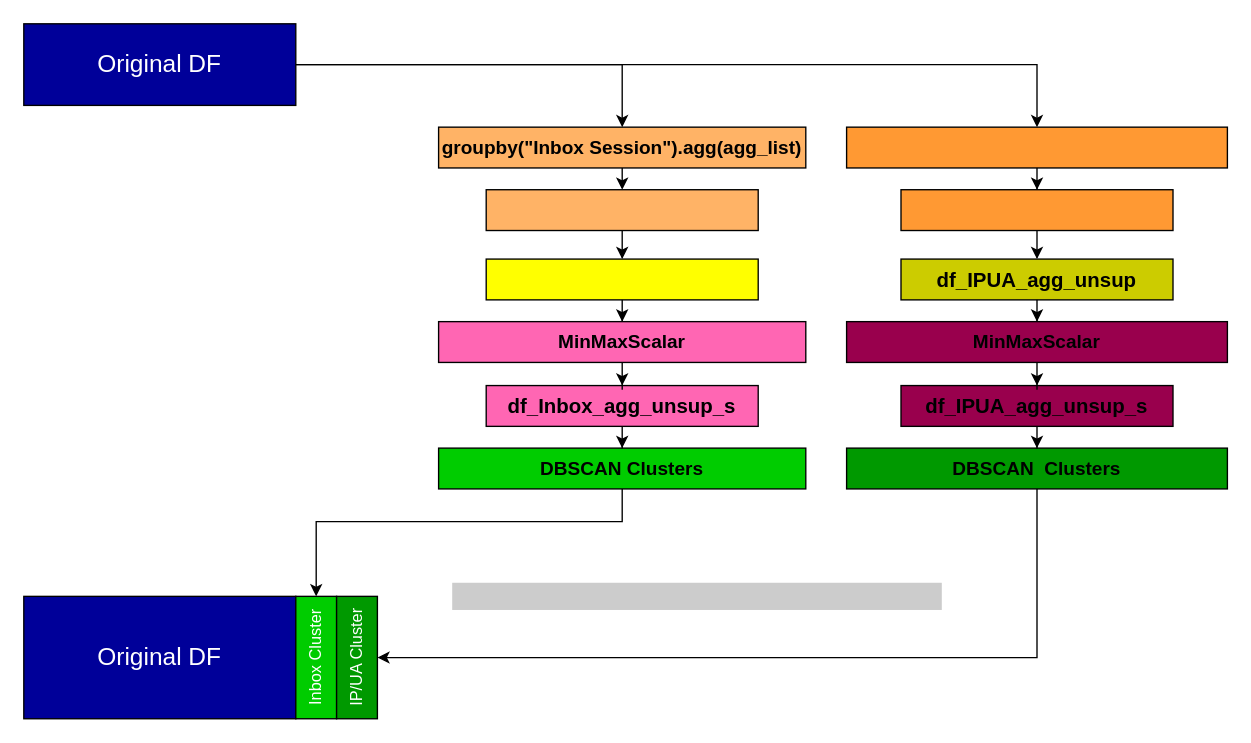
Image size: 1251x743. Some labels were removed from this diagram. The shapes that lost their labels are listed below. From the top down, each one's box as (x1, y1, x2, y2) in pixels, then its label:
(845, 126, 1227, 168): groupby("IP/UA Session").agg(agg_list)
(485, 188, 758, 231): df_Inbox_agg
(900, 188, 1173, 231): df_IPUA_agg
(485, 258, 758, 300): df_Inbox_agg_unsup
(452, 582, 941, 609): pd.merge(df, df_xxx_agg_unsup_s, 'xxxSesionID')
